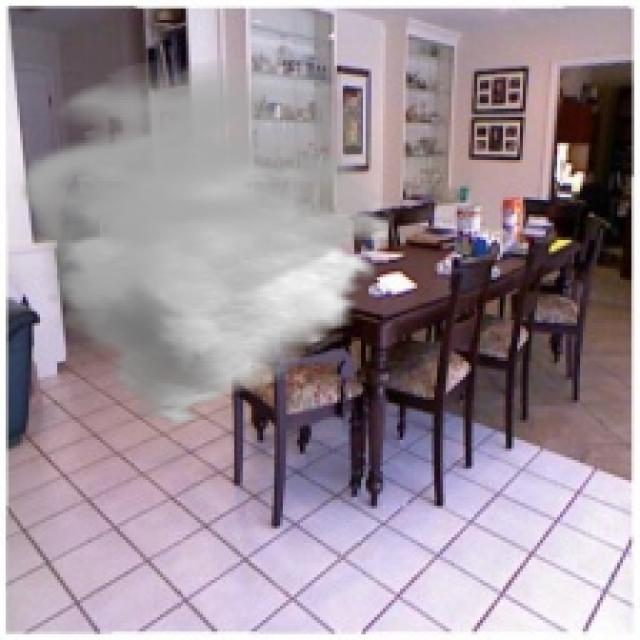smoke: (14, 57, 389, 429)
